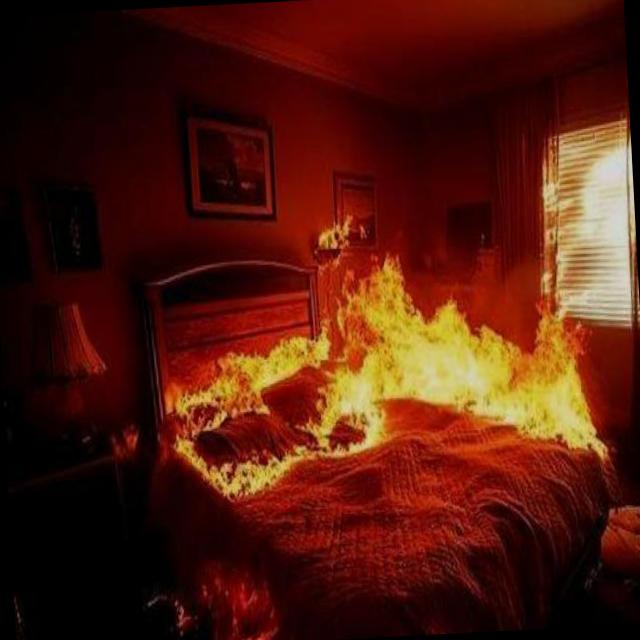Fire_Dangerous: (156, 252, 619, 508), (306, 208, 355, 260)
